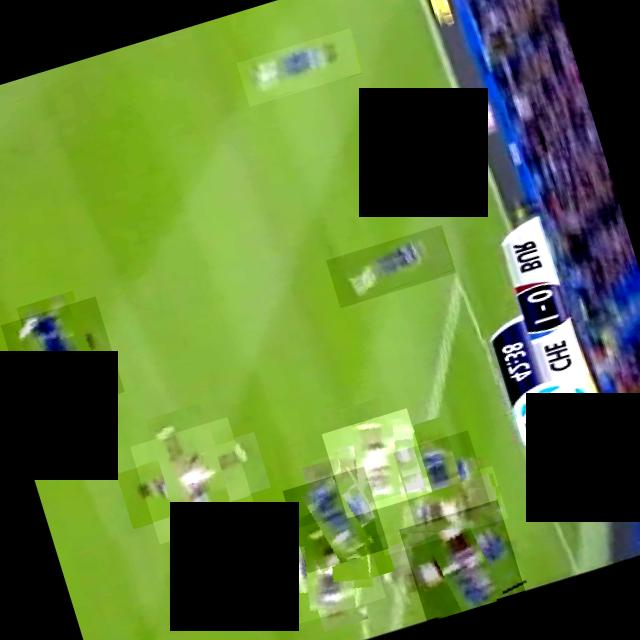soccer-player: (130, 416, 256, 542), (398, 498, 526, 622), (0, 294, 124, 420), (270, 508, 386, 623), (368, 464, 508, 554), (321, 406, 432, 516), (282, 464, 388, 572), (326, 224, 456, 306), (236, 26, 363, 106), (393, 429, 490, 526)
